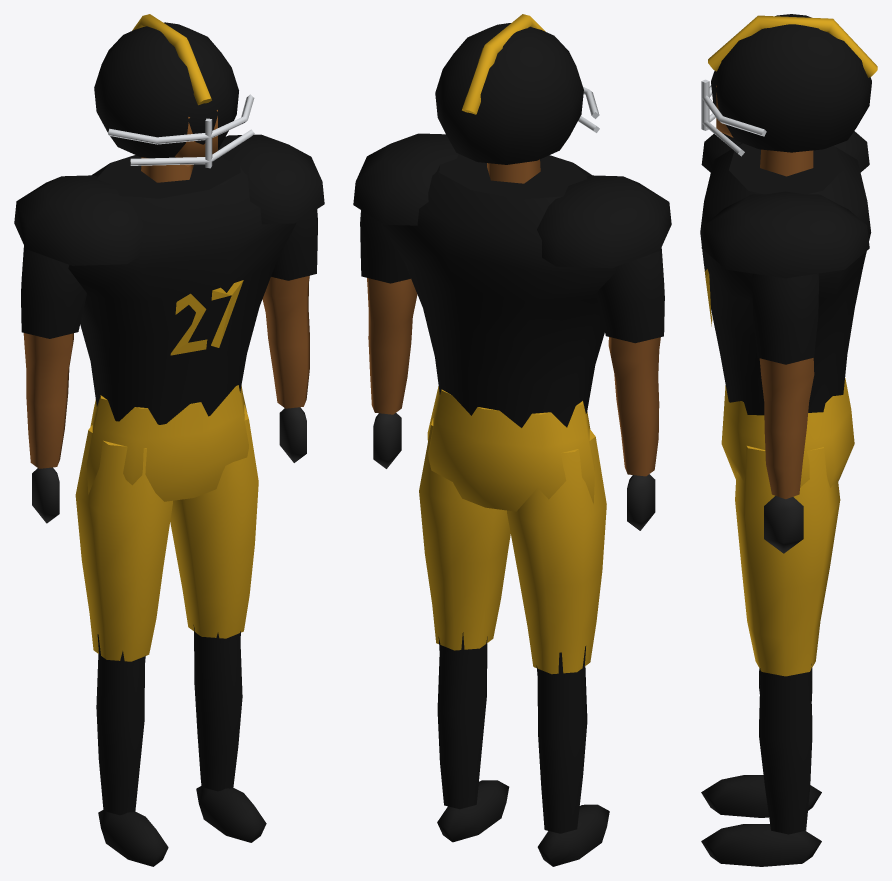
The picture shows the model from 3 angles, left to right: view 1: azimuth 30°, elevation 25°; view 2: azimuth 150°, elevation 25°; view 3: azimuth 270°, elevation 25°; orthographic projection. The views are drawn at different scales.
Parts seen in each view (by area): view 1: player_L2; view 2: player_L2; view 3: player_L2.
Part boxes in pixels (x1=…): player_L2: x1=14, y1=14, x2=324, y2=866; player_L2: x1=353, y1=14, x2=671, y2=866; player_L2: x1=700, y1=14, x2=877, y2=866.
Size of the model in its own units: 0.728 by 1.87 by 0.3681.
